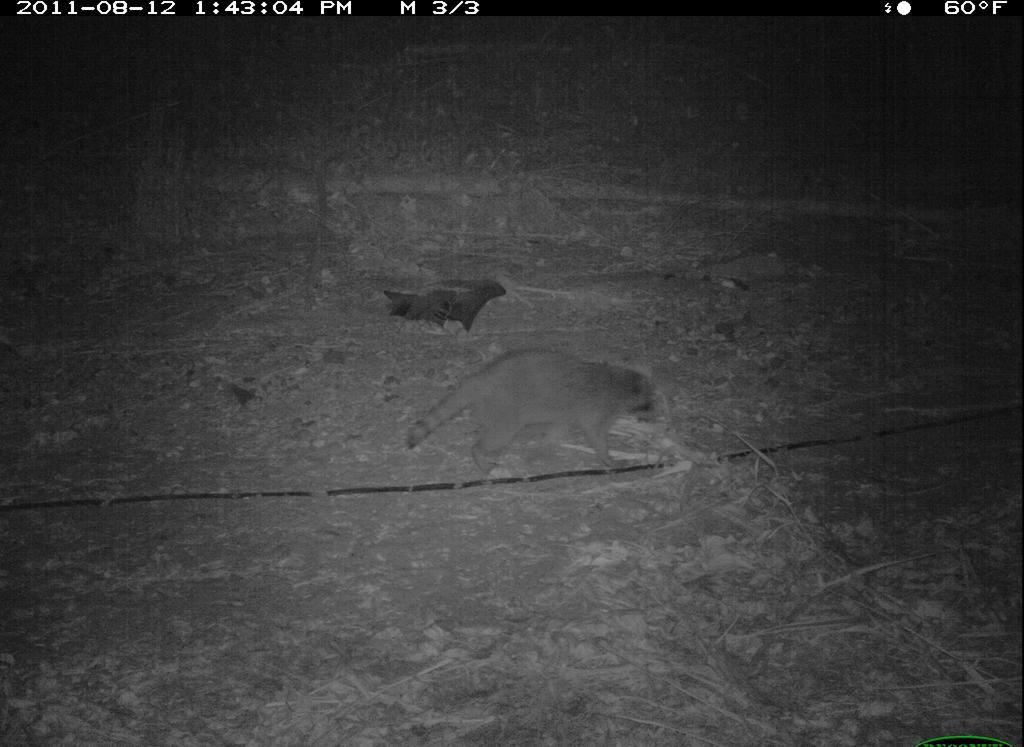raccoon: (392, 338, 678, 502)
